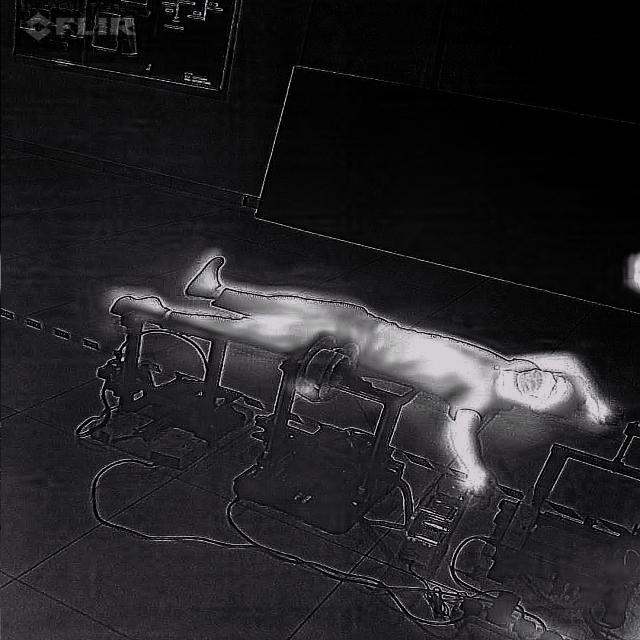Victim: (101, 253, 629, 500)
